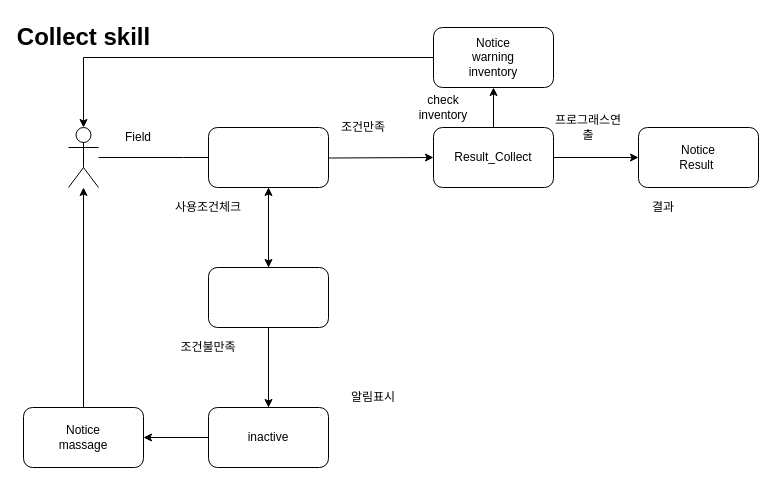
Some shapes in this 776 by 485 pixel diagram are drawn without their labels. Each missing label, with the centre of its shape:
"1.check require Level 2. have tool" belongs at [268,297].
"action collect skill" belongs at [268,157].
"Actor" belongs at [83,157].
